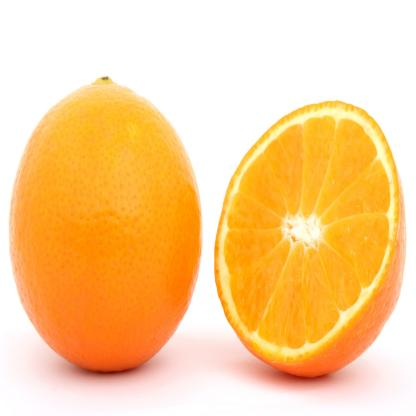orange: (8, 79, 201, 395)
